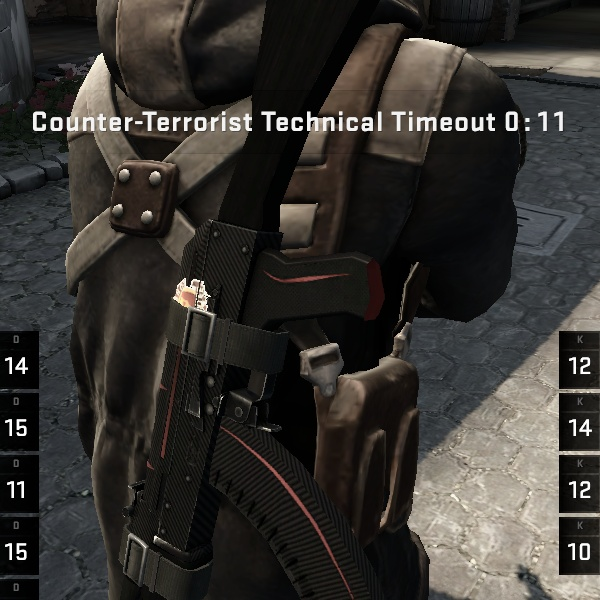ct_body: (13, 15, 553, 600)
t_body: (13, 15, 553, 600)
t_head: (0, 14, 600, 596)
